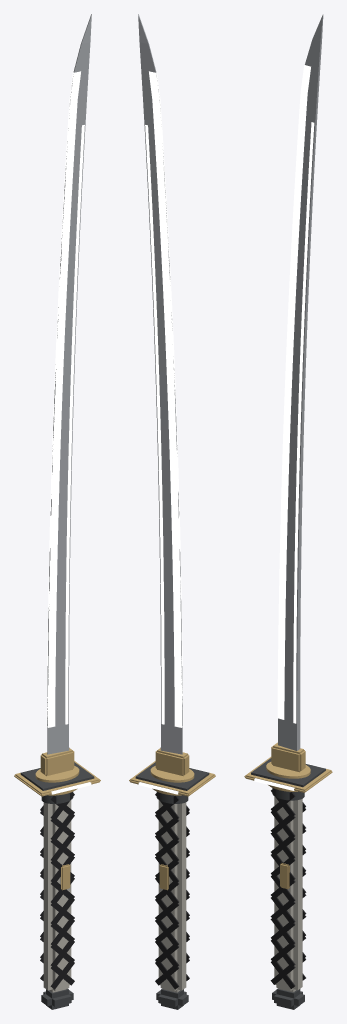
File: katana_1.glb
3 renders of one model, left to right at view 1: azimuth 30°, elevation 25°; view 2: azimuth 150°, elevation 25°; view 3: azimuth 330°, elevation 25°, orthographic.
Parts seen in each view (by area): view 1: katana_1_glow, katana_1_steel, katana_1_skin, katana_1_wrap, katana_1_brass, katana_1_dark_steel; view 2: katana_1_glow, katana_1_steel, katana_1_skin, katana_1_wrap, katana_1_brass, katana_1_dark_steel; view 3: katana_1_steel, katana_1_glow, katana_1_skin, katana_1_wrap, katana_1_brass, katana_1_dark_steel.
Part boxes in pixels (x1,y1,x2,y2): katana_1_glow: [23, 71, 91, 794]; katana_1_steel: [47, 14, 91, 754]; katana_1_skin: [43, 800, 71, 992]; katana_1_wrap: [40, 792, 74, 989]; katana_1_brass: [14, 748, 100, 890]; katana_1_dark_steel: [20, 762, 94, 1009]; katana_1_glow: [138, 71, 206, 794]; katana_1_steel: [138, 14, 182, 754]; katana_1_skin: [158, 800, 186, 992]; katana_1_wrap: [155, 792, 189, 989]; katana_1_brass: [129, 748, 215, 890]; katana_1_dark_steel: [135, 762, 209, 1009]; katana_1_steel: [278, 14, 323, 750]; katana_1_glow: [254, 65, 322, 790]; katana_1_skin: [274, 796, 302, 992]; katana_1_wrap: [270, 788, 306, 988]; katana_1_brass: [244, 742, 332, 889]; katana_1_dark_steel: [251, 758, 325, 1009].
Bounding box in the file's own units: 0.083 × 1.21 × 0.064.
